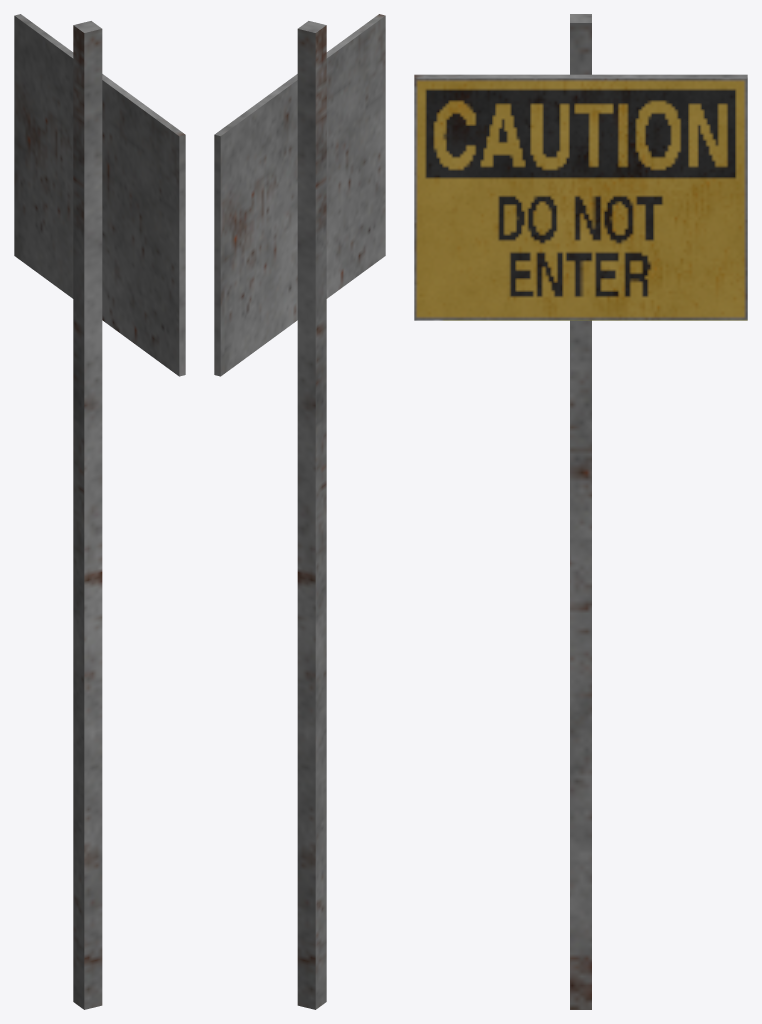
Rendered from Sign_2.fbx.
The picture shows the model from 3 angles, left to right: view 1: azimuth 30°, elevation 25°; view 2: azimuth 150°, elevation 25°; view 3: azimuth 270°, elevation 25°; orthographic projection.
Parts seen in each view (by area): view 1: Sign_2; view 2: Sign_2; view 3: Sign_2.
Part boxes in pixels (x1,y1,x2,y2): Sign_2: [14, 14, 185, 1009]; Sign_2: [214, 14, 385, 1009]; Sign_2: [414, 14, 747, 1009].
Size of the model in its own units: 5.76 by 221 by 67.46.
